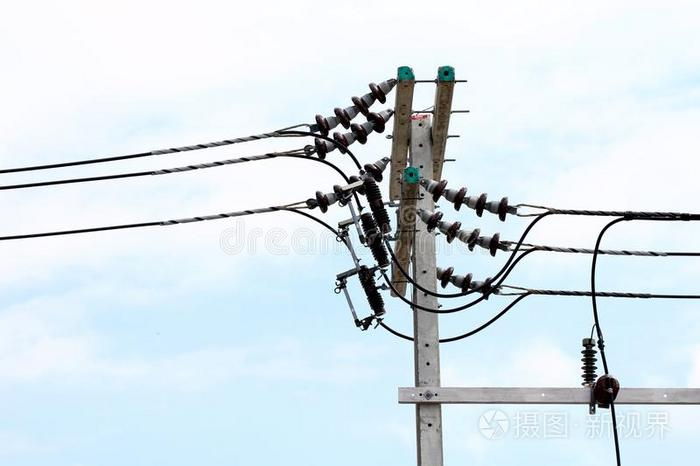insulator: (315, 79, 387, 133), (428, 211, 505, 257), (315, 161, 383, 213), (313, 111, 387, 155), (432, 179, 510, 219), (438, 267, 494, 301)
